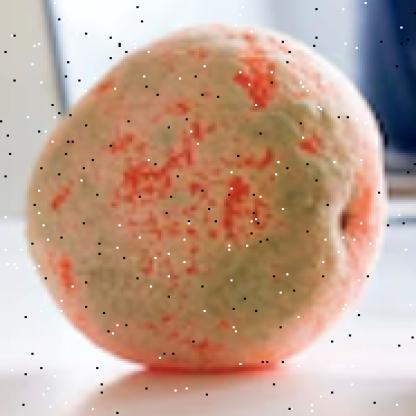rotten: (29, 32, 387, 367)
